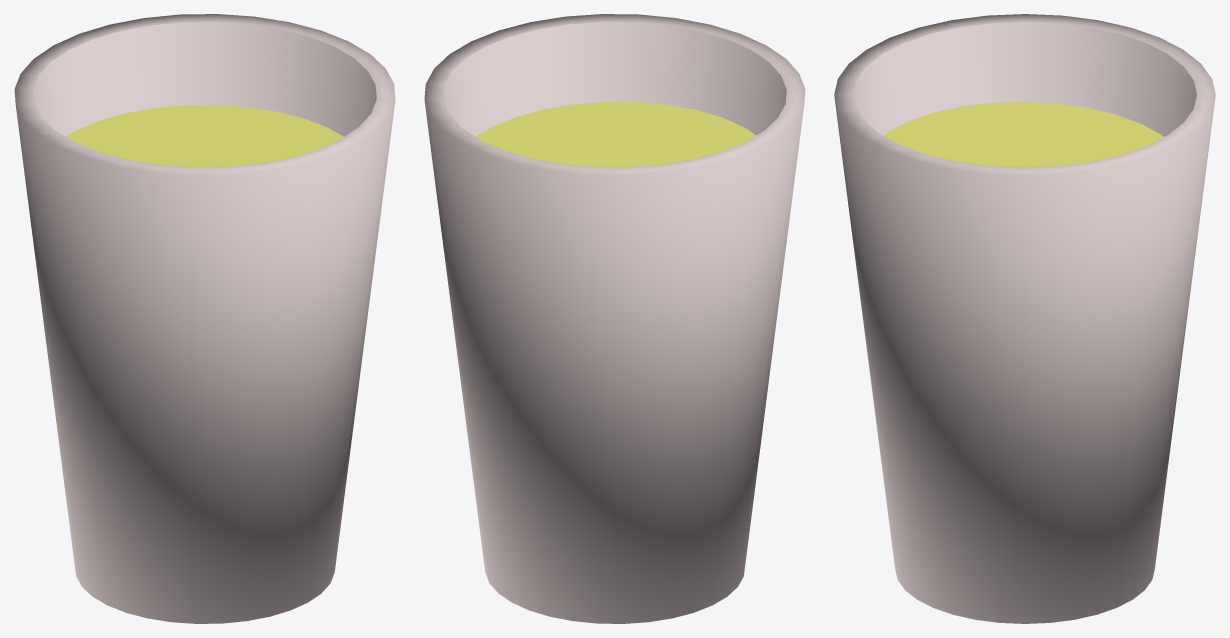
The model's file is gelatin_cup.fbx.
The picture shows the model from 3 angles, left to right: view 1: azimuth 30°, elevation 25°; view 2: azimuth 150°, elevation 25°; view 3: azimuth 270°, elevation 25°; orthographic projection.
Visible parts, largest first — view 1: Cup, Gelatin; view 2: Cup, Gelatin; view 3: Cup, Gelatin.
Part boxes in pixels (x1=…): Cup: x1=14, y1=14, x2=395, y2=623; Gelatin: x1=67, y1=105, x2=343, y2=166; Cup: x1=424, y1=14, x2=805, y2=623; Gelatin: x1=476, y1=101, x2=755, y2=166; Cup: x1=834, y1=14, x2=1215, y2=623; Gelatin: x1=883, y1=101, x2=1163, y2=167.
Size of the model in its own units: 13.58 by 18.63 by 13.58.
